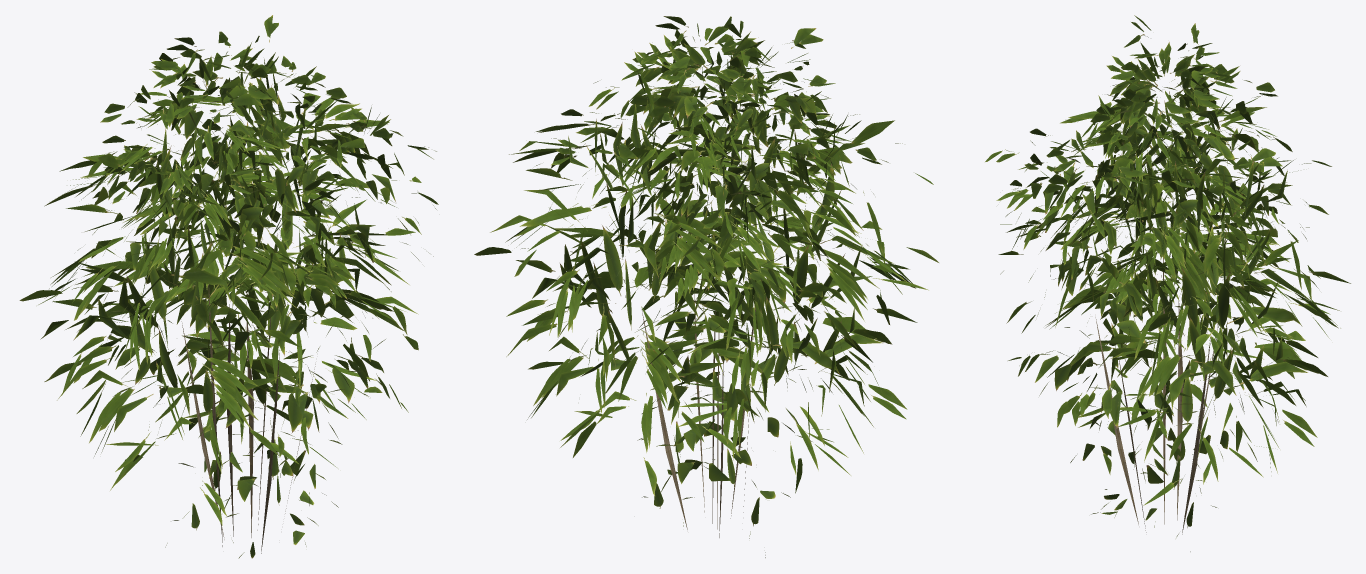
Rendered from bamboo-clump.glb.
3 renders of one model, left to right at view 1: azimuth 30°, elevation 25°; view 2: azimuth 150°, elevation 25°; view 3: azimuth 270°, elevation 25°, orthographic. The views are drawn at different scales.
Parts seen in each view (by area): view 1: bamboo-clump; view 2: bamboo-clump; view 3: bamboo-clump.
Boxes of the visible parts, x1,y1,x2,y2 form: bamboo-clump: (19,15,438,558); bamboo-clump: (474,16,938,557); bamboo-clump: (985,15,1350,551).
Bounding box in the file's own units: 4.95 × 5.95 × 4.15.
Materials: 5 (5 with a texture image).
